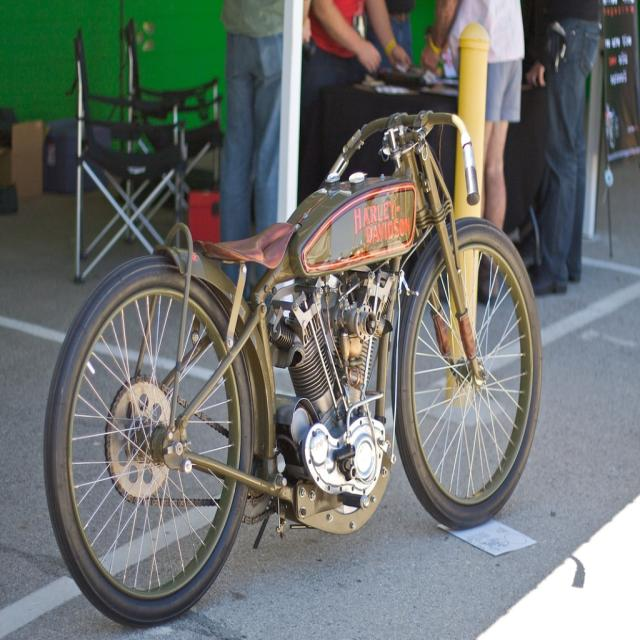Motorbikes: (42, 112, 544, 629)
